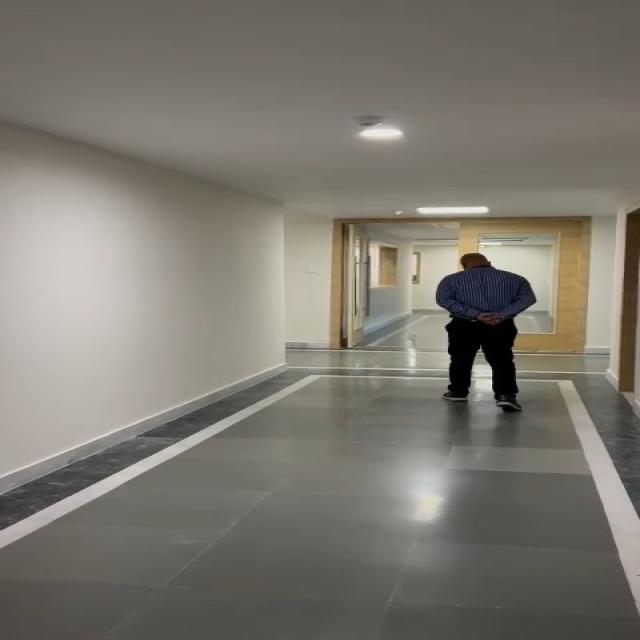floor: (0, 489, 640, 640), (276, 346, 443, 483)
moving_object: (438, 244, 535, 422)
wall: (0, 112, 289, 409)
